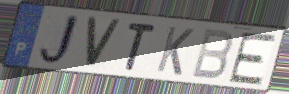B: (189, 27, 235, 82)
E: (226, 32, 279, 87)
J: (36, 12, 82, 68)
K: (154, 24, 196, 78)
T: (124, 20, 158, 73)
V: (85, 14, 124, 71)
